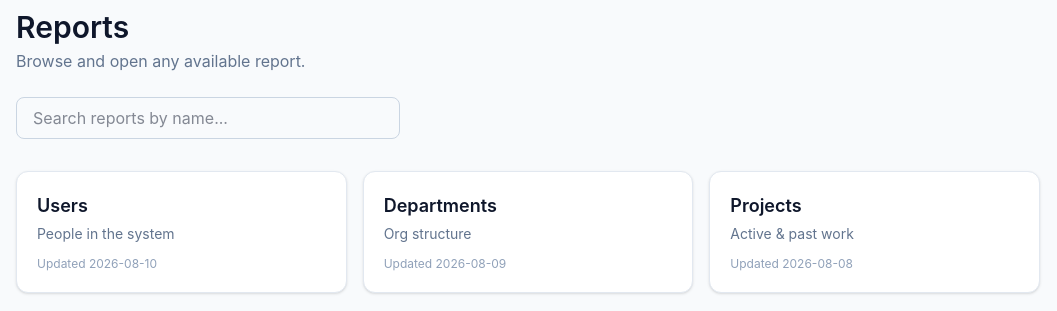
Test: LandingPage › filters visible cards by name as the user types
Expected: the heading "Users" is shown, [37, 195, 88, 216]
In the field labelled "Search reports by name...": {"x": 208, "y": 118} [16, 97, 400, 139], type "dep"
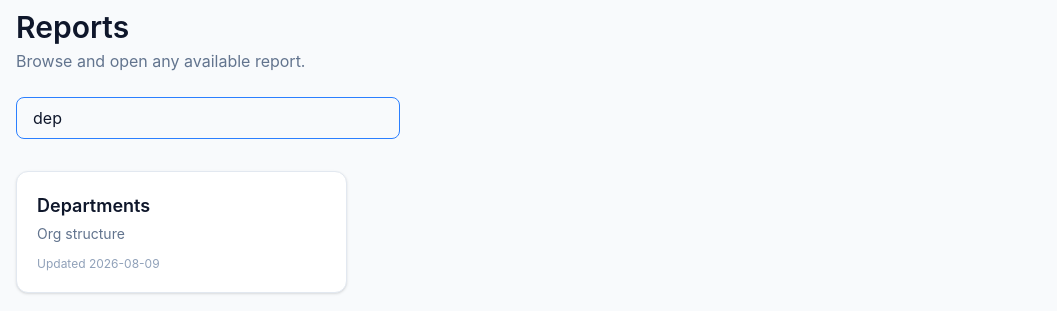
Expected: the heading "Departments" is shown, [37, 195, 150, 216]
Expected: the link "Users" is gone
Expected: the link "Projects" is gone
